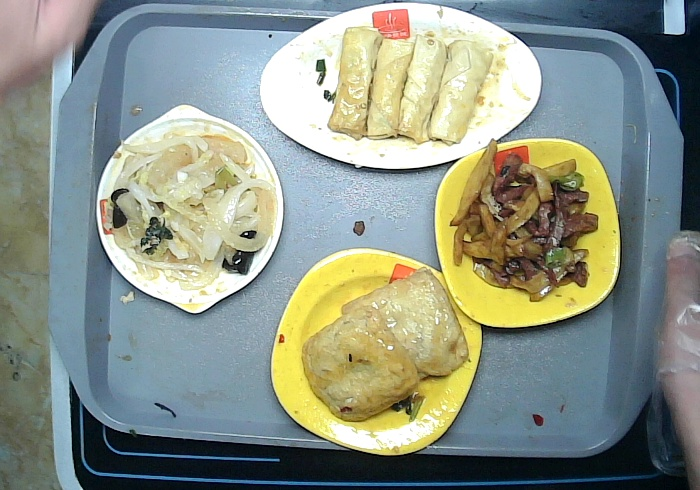SHKJ-Bao_Yu_Pan: (94, 104, 287, 317)
SHKJ-Huang_Se_Cai_Die: (432, 138, 623, 330)
SHKJ-Huang_Se_Si_Fang_Cai_Die: (267, 247, 485, 457)
SHKJ-Yu_Pan: (256, 1, 542, 171)
